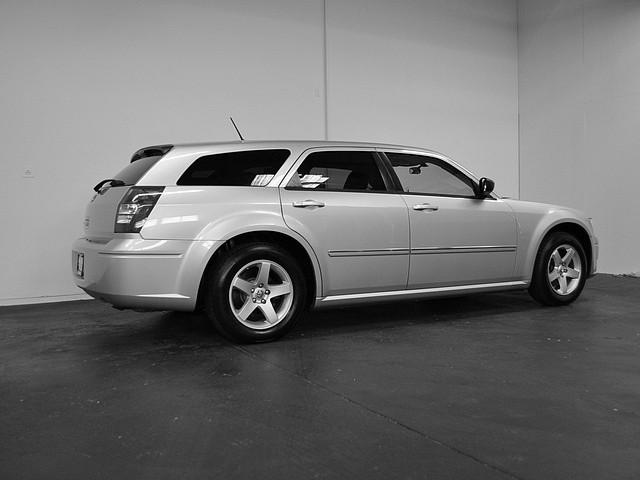car: (69, 114, 601, 347)
